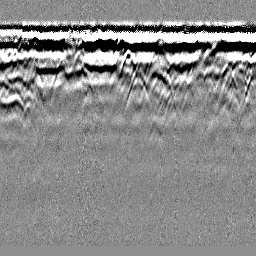cavity: (120, 47, 135, 76)
